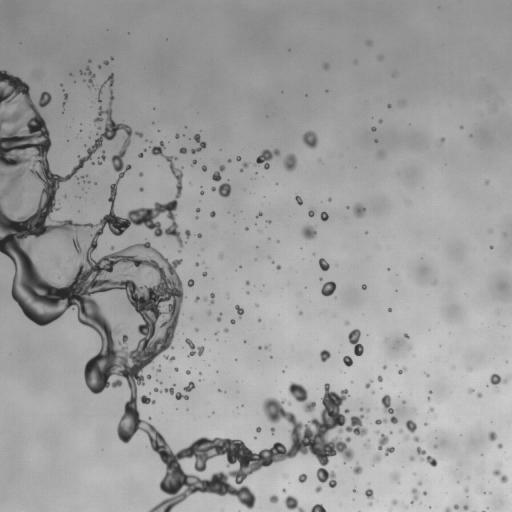droplet: (409, 446, 437, 466), (255, 149, 279, 169), (185, 338, 204, 356), (284, 495, 305, 511), (211, 182, 231, 197), (191, 134, 206, 153), (302, 131, 318, 148), (283, 154, 297, 171), (321, 281, 336, 296), (490, 373, 507, 386), (301, 225, 316, 239), (38, 91, 51, 107), (377, 434, 388, 450), (353, 204, 365, 217), (405, 420, 416, 433), (319, 258, 329, 271), (320, 350, 330, 361), (342, 355, 352, 366), (184, 381, 194, 391), (390, 472, 399, 483), (235, 305, 243, 317), (353, 464, 362, 474), (298, 473, 307, 482), (488, 431, 496, 441), (320, 212, 328, 221), (385, 447, 394, 455), (269, 495, 278, 503), (295, 195, 302, 205), (373, 454, 380, 463), (187, 279, 194, 286), (308, 209, 314, 217), (135, 131, 142, 137), (179, 147, 186, 153), (185, 229, 190, 237), (378, 151, 384, 157), (315, 486, 321, 492), (191, 159, 196, 166), (444, 506, 451, 511), (210, 211, 215, 217), (413, 436, 419, 441), (236, 156, 241, 161), (257, 212, 262, 217), (216, 316, 221, 321), (230, 319, 235, 324), (468, 388, 473, 393), (256, 427, 261, 432), (497, 443, 502, 448), (392, 500, 397, 505), (202, 165, 206, 171), (0, 171, 4, 177), (154, 388, 160, 392), (270, 427, 274, 433), (324, 63, 328, 68), (371, 127, 376, 131), (440, 137, 444, 142), (138, 153, 143, 157), (196, 233, 201, 237), (276, 265, 281, 269), (362, 284, 366, 289), (404, 333, 408, 338), (264, 345, 269, 349), (378, 376, 382, 381), (477, 392, 481, 397), (344, 409, 349, 413), (454, 504, 458, 509), (463, 505, 468, 509), (104, 60, 108, 64), (175, 134, 179, 138), (139, 187, 143, 191), (202, 272, 206, 276), (195, 297, 199, 301), (224, 328, 228, 332), (186, 370, 190, 374), (429, 407, 433, 411), (464, 487, 468, 491), (64, 94, 67, 99), (367, 40, 370, 44), (139, 173, 143, 176), (196, 208, 199, 212), (266, 220, 270, 223), (245, 281, 249, 284), (383, 365, 386, 369), (175, 367, 178, 371), (423, 491, 426, 495), (387, 104, 390, 107), (379, 120, 382, 123), (228, 159, 231, 162), (200, 191, 203, 194), (328, 198, 331, 201), (245, 227, 248, 230), (111, 246, 114, 249), (219, 254, 222, 257), (195, 262, 198, 265), (255, 304, 258, 307), (388, 308, 391, 311), (345, 321, 348, 324), (147, 375, 150, 378), (360, 408, 363, 411), (399, 429, 402, 432), (376, 430, 379, 433), (405, 436, 408, 439), (433, 445, 436, 448), (418, 482, 421, 485), (282, 489, 285, 492), (157, 368, 159, 372), (353, 488, 355, 492), (380, 56, 382, 59), (62, 102, 64, 105), (490, 246, 493, 248), (208, 311, 210, 314), (299, 312, 302, 314), (258, 319, 261, 321), (427, 397, 429, 400), (402, 401, 405, 403), (366, 409, 369, 411), (254, 436, 256, 439), (98, 66, 100, 68), (98, 99, 100, 101), (98, 127, 100, 129), (460, 126, 462, 128), (375, 139, 377, 141), (486, 181, 488, 183), (5, 191, 7, 193), (215, 332, 217, 334), (426, 374, 428, 376), (429, 391, 431, 393), (149, 417, 151, 419), (364, 443, 366, 445), (482, 490, 484, 492)
ligament: (0, 70, 367, 511), (288, 382, 315, 412), (381, 394, 397, 423), (348, 329, 363, 355), (163, 386, 188, 399), (98, 74, 113, 94), (80, 66, 95, 85), (493, 469, 508, 483), (212, 165, 224, 181), (365, 489, 373, 506), (410, 488, 418, 503), (310, 504, 326, 511), (98, 151, 105, 164), (240, 162, 248, 171), (375, 418, 387, 424), (365, 379, 372, 388), (164, 355, 174, 361), (398, 367, 406, 374), (210, 293, 214, 303)
